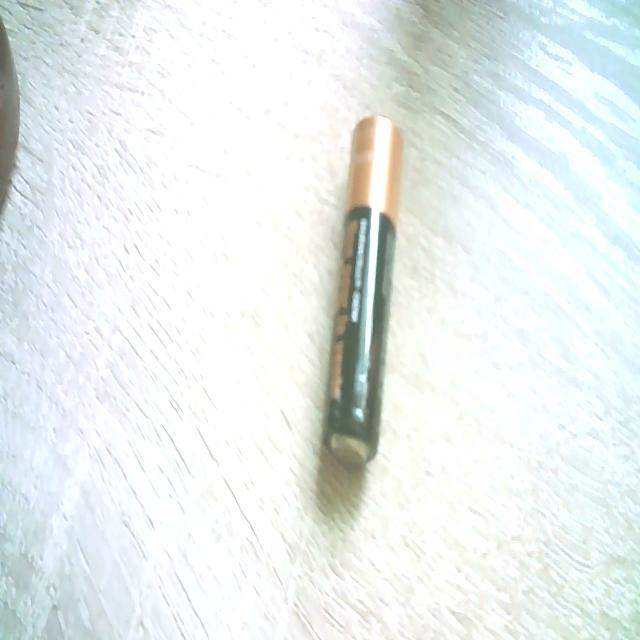AA: (321, 113, 404, 469)
